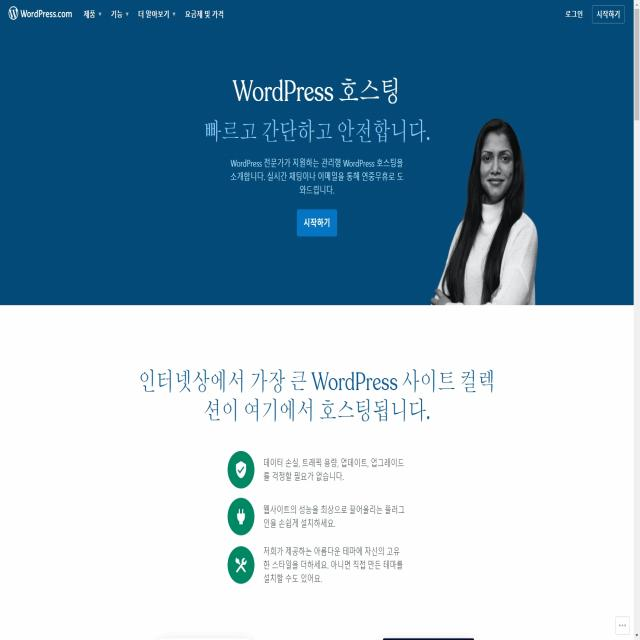menu-bar: (79, 3, 228, 25), (556, 2, 627, 26)
